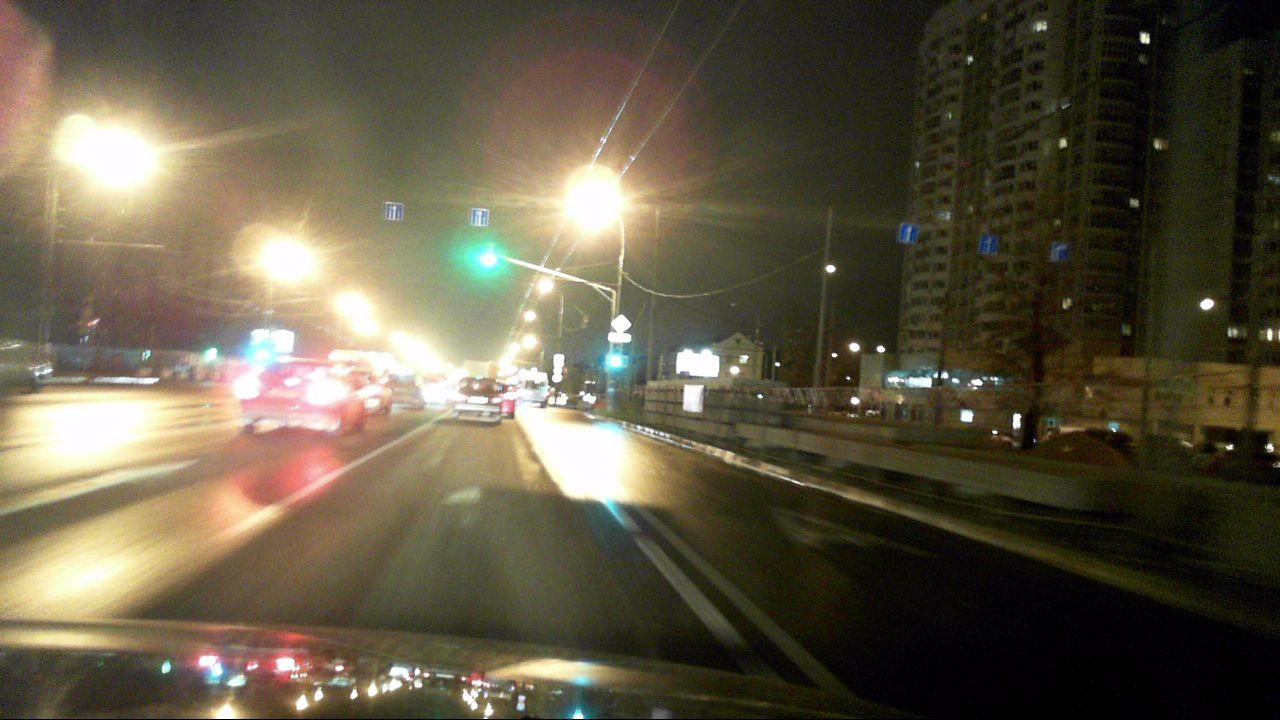5_15_2: (1049, 240, 1071, 260), (470, 206, 489, 228), (898, 223, 918, 243), (978, 235, 998, 254), (386, 202, 404, 220)
